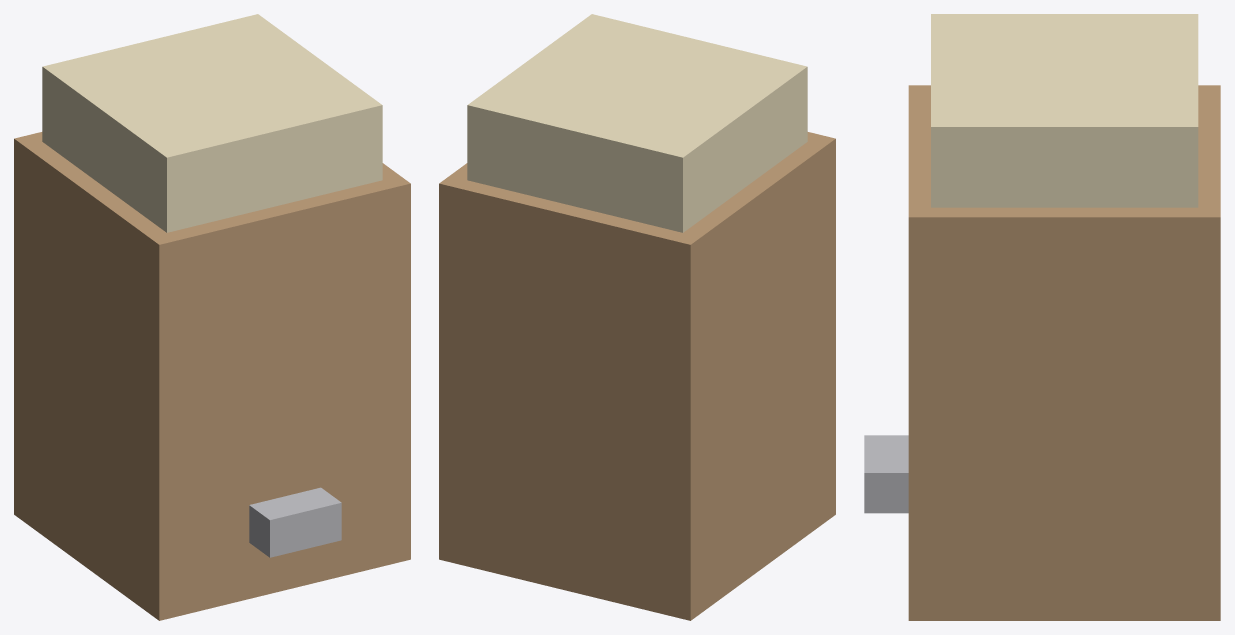
Rendered from Prop_DS_Water_FilterBarrel_V2.glb.
The picture shows the model from 3 angles, left to right: view 1: azimuth 30°, elevation 25°; view 2: azimuth 150°, elevation 25°; view 3: azimuth 270°, elevation 25°; orthographic projection. The views are drawn at different scales.
Parts seen in each view (by area): view 1: Prop_DS_Water_FilterBarrel_V2; view 2: Prop_DS_Water_FilterBarrel_V2; view 3: Prop_DS_Water_FilterBarrel_V2.
Boxes of the visible parts, x1,y1,x2,y2 form: Prop_DS_Water_FilterBarrel_V2: (14, 14, 410, 620); Prop_DS_Water_FilterBarrel_V2: (439, 14, 835, 620); Prop_DS_Water_FilterBarrel_V2: (864, 14, 1220, 620).
Size of the model in its own units: 0.7 by 1.2 by 0.8.
